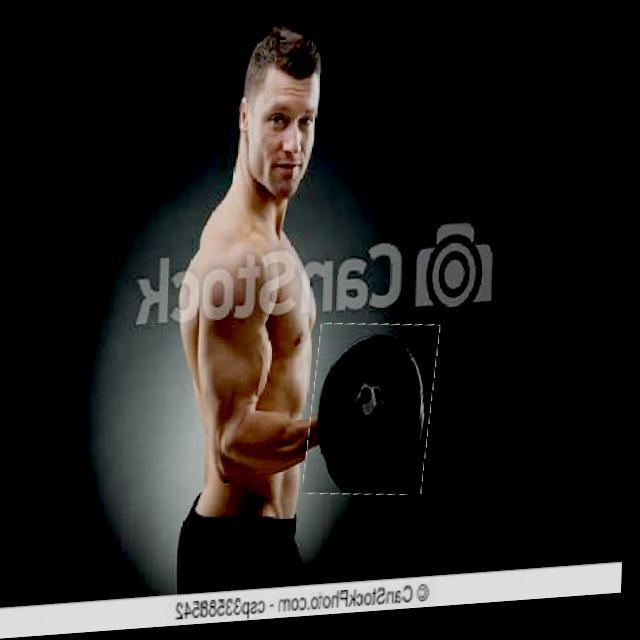barbell: (310, 326, 440, 507)
